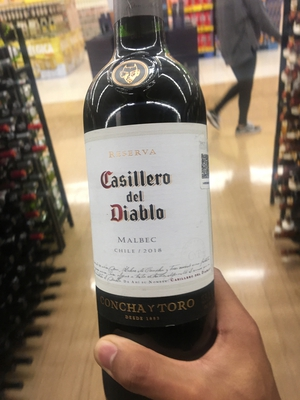casillero del diablo malbec: (75, 6, 227, 365)
